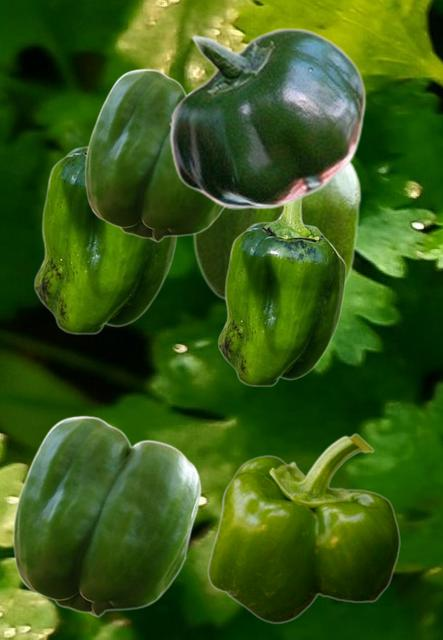bell_pepper: (12, 415, 200, 616), (207, 433, 399, 623), (168, 27, 365, 208), (33, 145, 177, 334), (84, 68, 224, 241), (217, 199, 345, 386), (191, 162, 361, 302)
